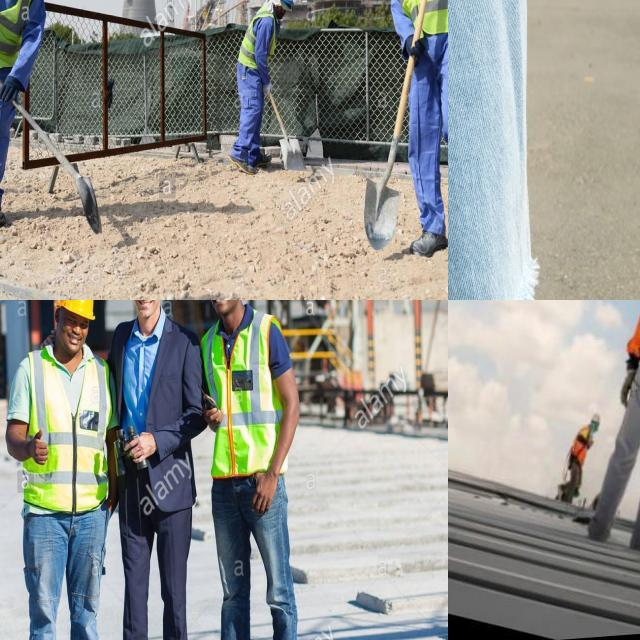face_nomask: (60, 314, 88, 362), (133, 300, 163, 323), (205, 300, 238, 318)
hand_glove: (402, 31, 434, 66), (0, 69, 25, 110), (260, 74, 276, 109)
hand_noglove: (129, 427, 157, 468), (255, 468, 280, 513), (31, 428, 53, 467)
head_helmet: (55, 300, 95, 319)
person: (5, 300, 110, 640), (196, 300, 296, 640), (109, 300, 199, 640), (373, 0, 448, 257), (240, 0, 291, 178), (0, 0, 32, 229)
shoes: (400, 221, 448, 264), (225, 150, 261, 177), (0, 201, 8, 233)
vest: (204, 312, 285, 475), (29, 347, 108, 505), (239, 0, 282, 71), (0, 0, 31, 64), (399, 0, 448, 30)
